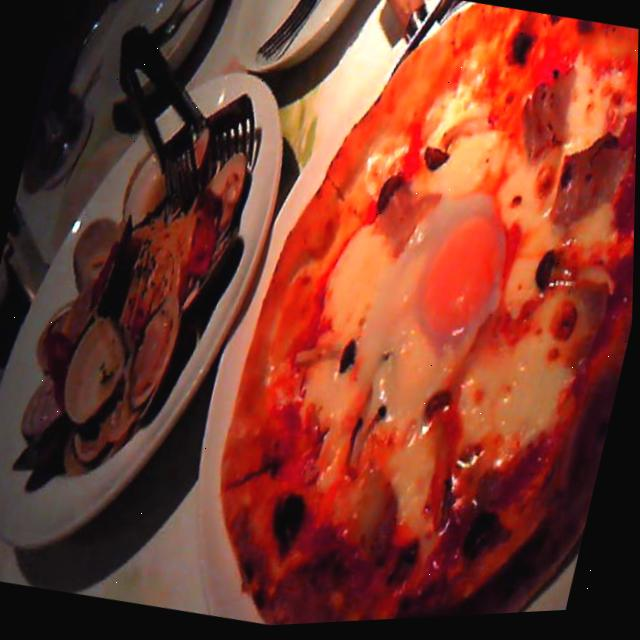汉堡快餐: (190, 0, 640, 632)
